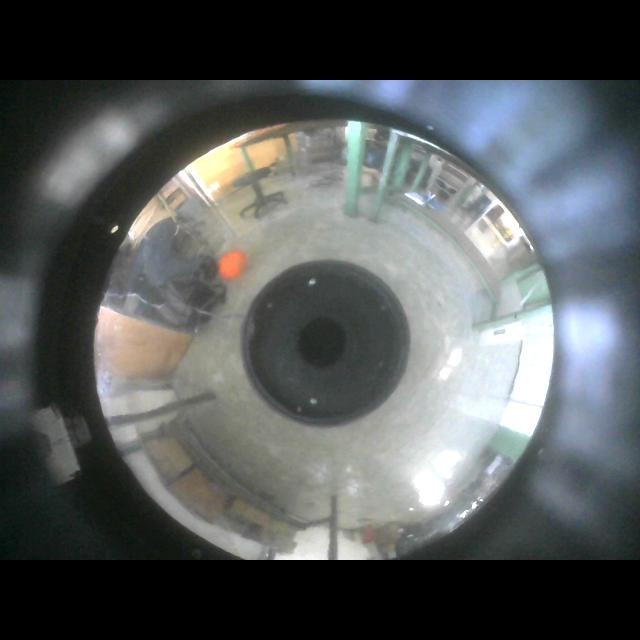bola: (219, 250, 247, 279)
